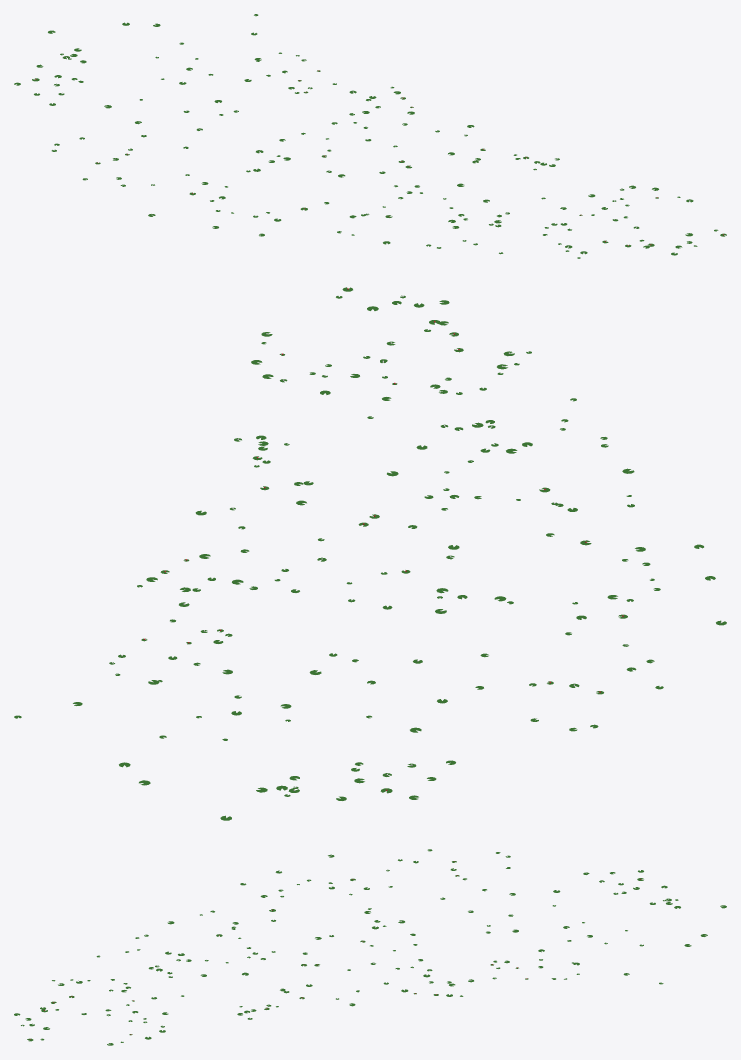
Rendered from SM_Waterside_Lilies_NoCol.fbx.
3 renders of one model, top to bottom at view 1: azimuth 30°, elevation 25°; view 2: azimuth 150°, elevation 25°; view 3: azimuth 270°, elevation 25°, orthographic. The views are drawn at different scales.
Visible parts, largest first — view 1: SM_Waterside_Lilies_NoCol; view 2: SM_Waterside_Lilies_NoCol; view 3: SM_Waterside_Lilies_NoCol.
Part boxes in pixels (<box>): SM_Waterside_Lilies_NoCol: <box>14,14,726,258</box>; SM_Waterside_Lilies_NoCol: <box>14,287,726,820</box>; SM_Waterside_Lilies_NoCol: <box>14,849,726,1045</box>.
Bounding box in the file's own units: 97.77 × 0.22 × 150.
